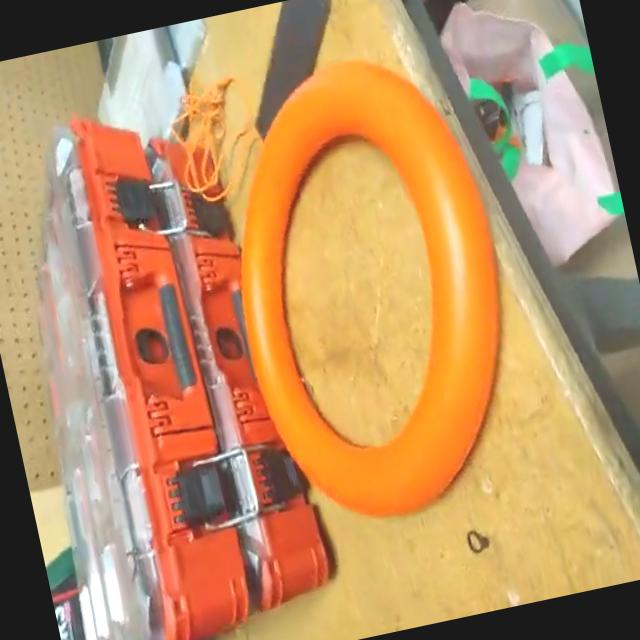note: (190, 31, 548, 546)
